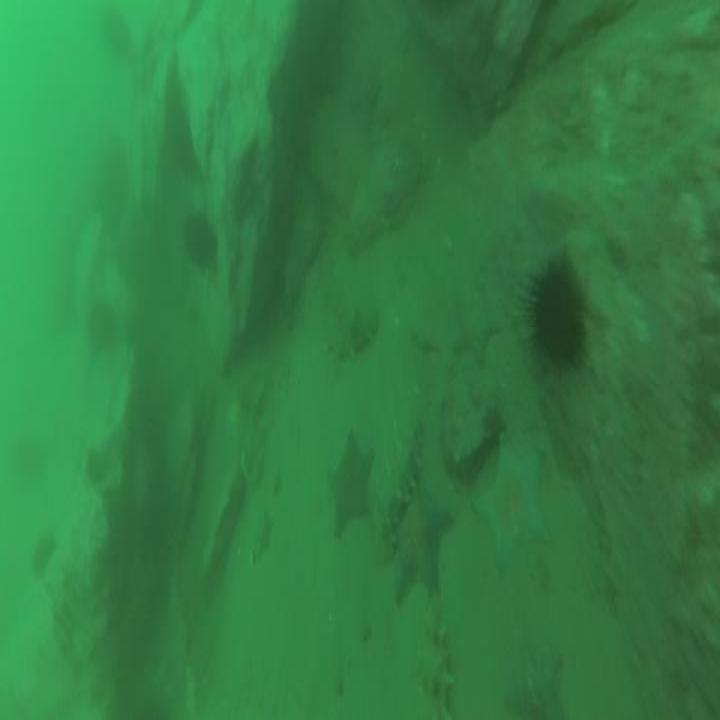echinus: (513, 247, 592, 388), (179, 203, 221, 279)
holothurian: (384, 409, 428, 571), (319, 299, 382, 375)
starfish: (470, 429, 553, 567), (384, 474, 458, 602), (325, 425, 379, 544), (504, 634, 567, 720), (451, 281, 501, 368)
